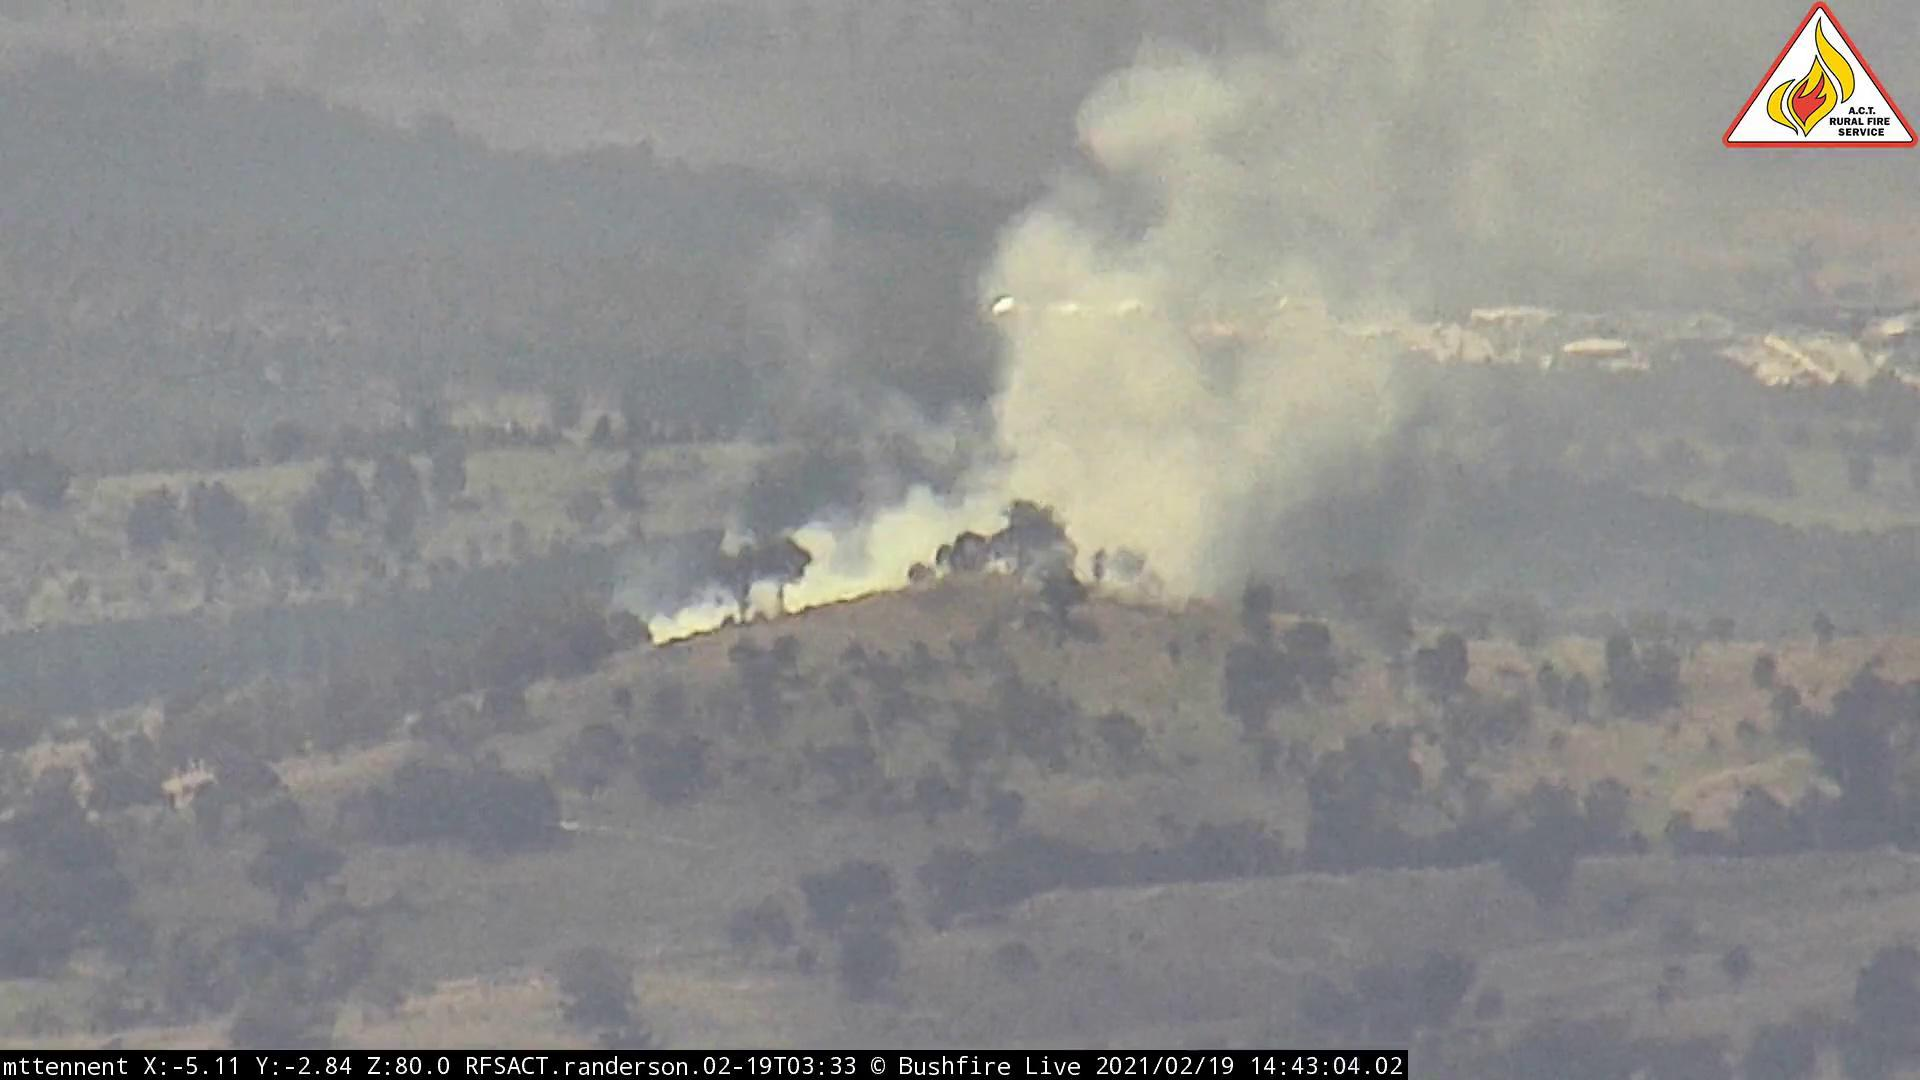instance_salient_object: (642, 3, 1476, 655)
